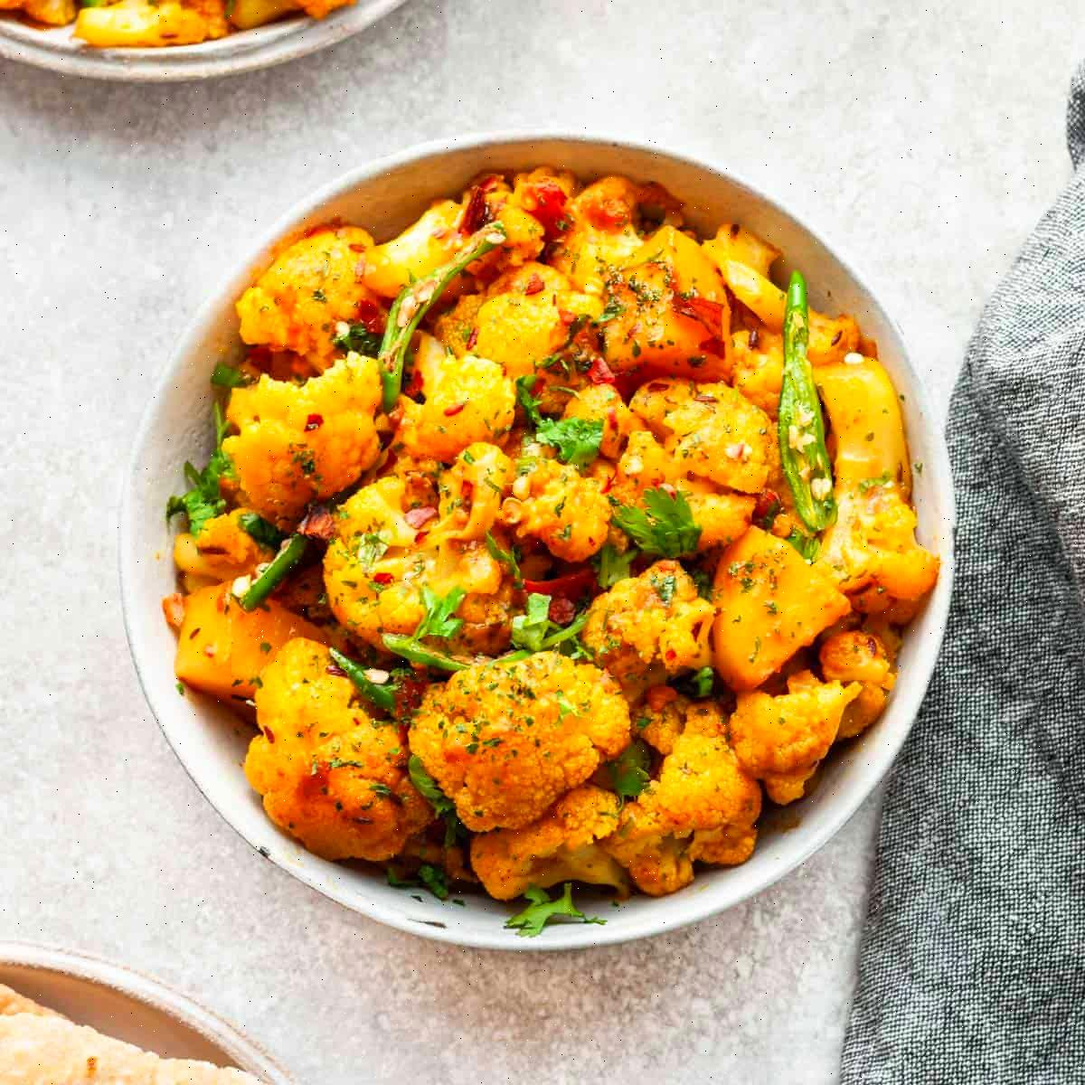aloo gobhi: (179, 176, 927, 900)
